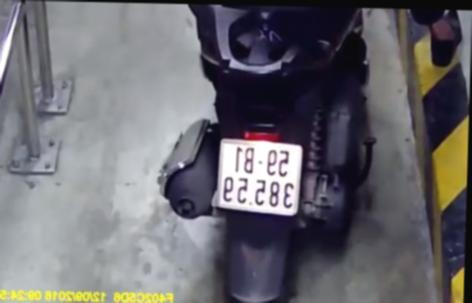License_Plate: (212, 135, 307, 218)
